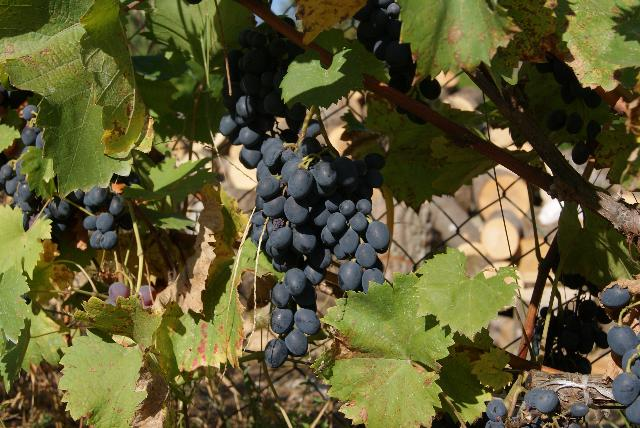grapes: (251, 135, 390, 365), (219, 29, 304, 169)
